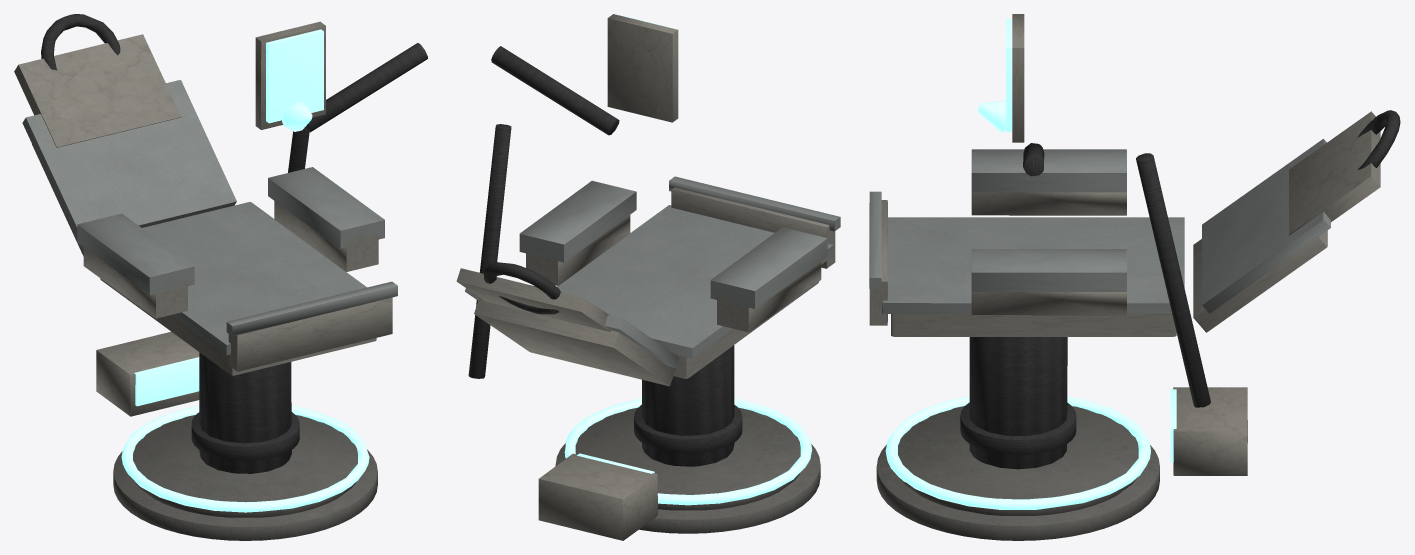
Rendered from hp_room_l04_p01.glb.
3 renders of one model, left to right at view 1: azimuth 30°, elevation 25°; view 2: azimuth 150°, elevation 25°; view 3: azimuth 270°, elevation 25°, orthographic. The views are drawn at different scales.
Visible parts, largest first — view 1: room_l04_p01; view 2: room_l04_p01; view 3: room_l04_p01.
Boxes of the visible parts, left/top/right/bottom form: room_l04_p01: left=14, top=14, right=427, bottom=540; room_l04_p01: left=456, top=14, right=840, bottom=540; room_l04_p01: left=869, top=14, right=1400, bottom=540.
Size of the model in its own units: 1.21 by 1.69 by 1.71.
7 materials, 5 textured.
